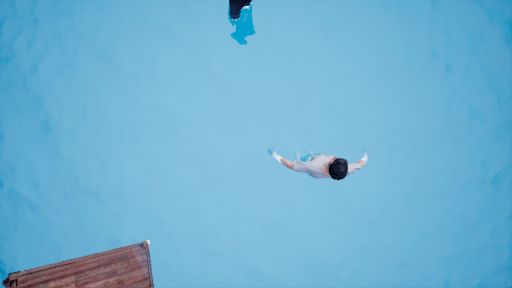person: (272, 147, 377, 179)
